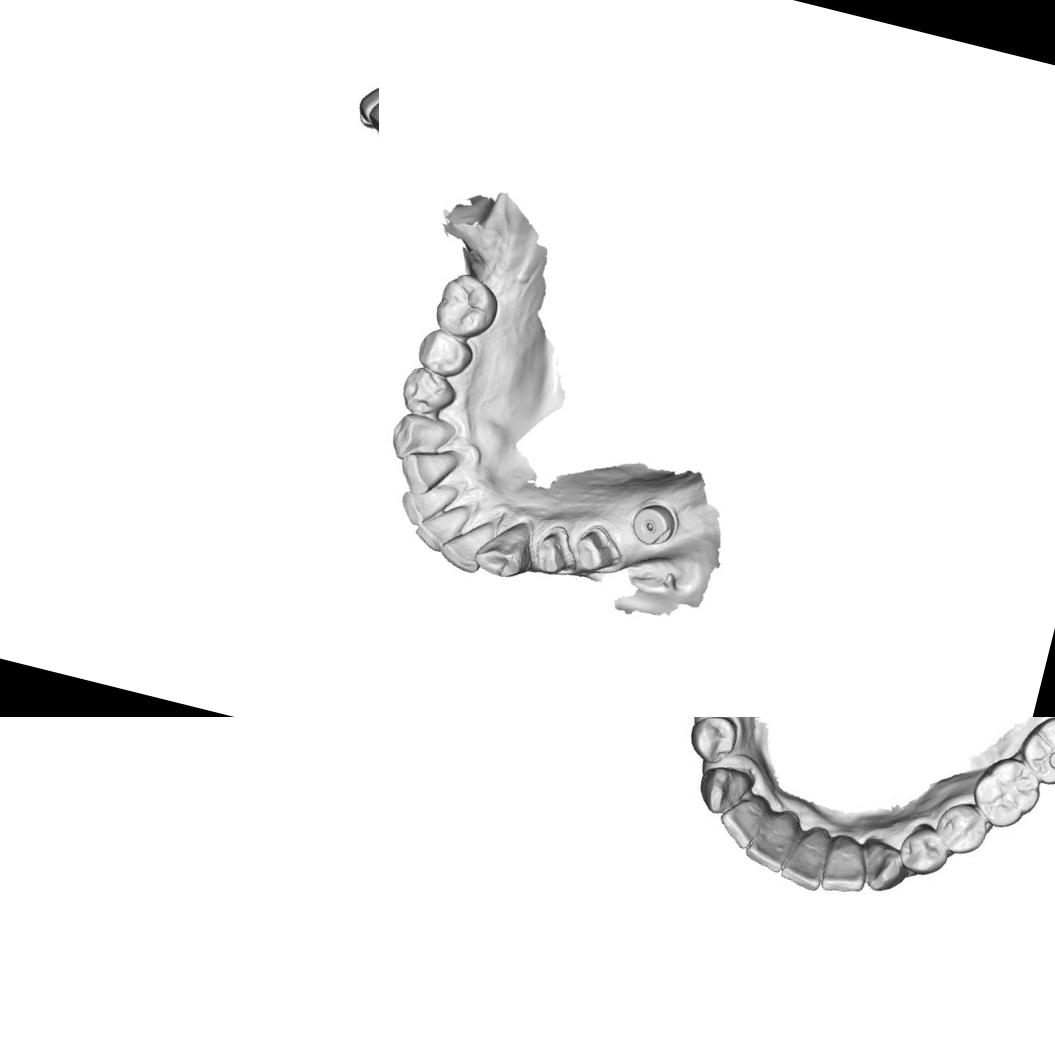canine: (385, 404, 459, 472), (470, 510, 538, 582), (854, 835, 914, 898), (693, 760, 753, 820)
crown: (570, 519, 626, 579), (529, 526, 576, 578)
implant: (627, 498, 681, 552)
incisor: (392, 438, 460, 504), (777, 821, 834, 893), (436, 508, 494, 578), (742, 805, 800, 875), (410, 494, 472, 559), (394, 473, 459, 534), (818, 831, 874, 899), (712, 788, 770, 852)
molar: (965, 749, 1047, 835), (429, 266, 505, 345), (1011, 717, 1055, 792)
premolar: (930, 795, 997, 860), (411, 323, 478, 383), (396, 360, 461, 421), (894, 817, 955, 880), (684, 717, 741, 767)
